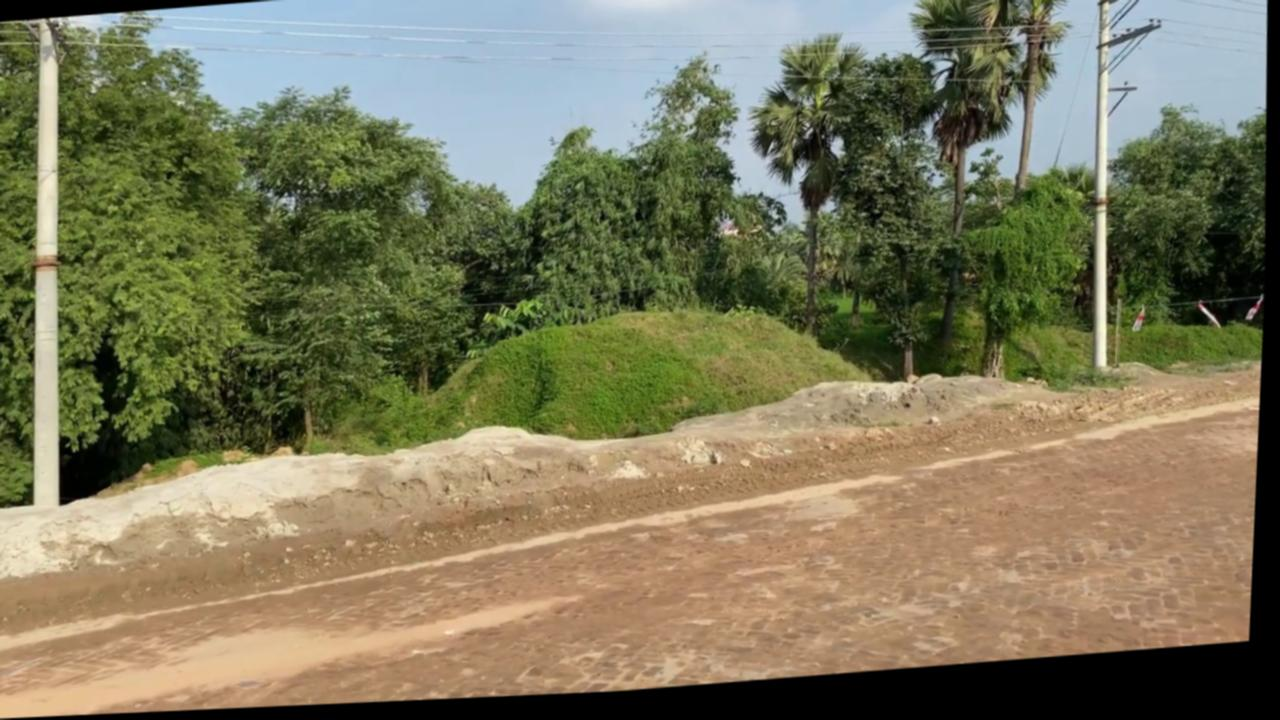Light-pole: (1078, 0, 1178, 381)
Pole: (13, 17, 82, 510), (1079, 0, 1127, 380)
Traffic-sign: (895, 0, 1032, 368), (738, 35, 883, 350), (824, 56, 954, 395), (952, 0, 1112, 212)
